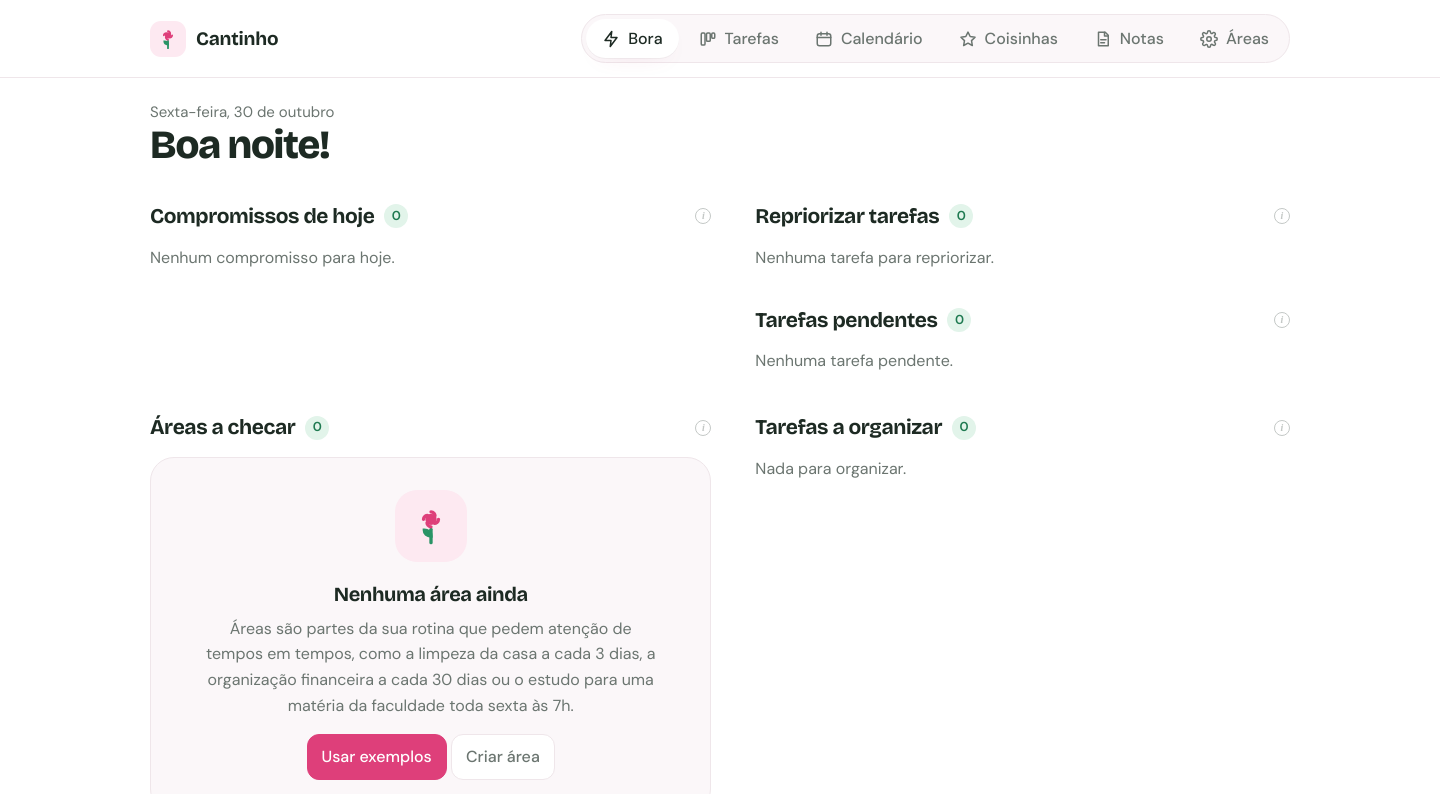
it: Calendário › alterna entre mês e semana e lembra a escolha
This screenshot has width=1440, height=794.
Step 1. Click the tab "Calendário" → x=869, y=39, box [799, 19, 939, 58]
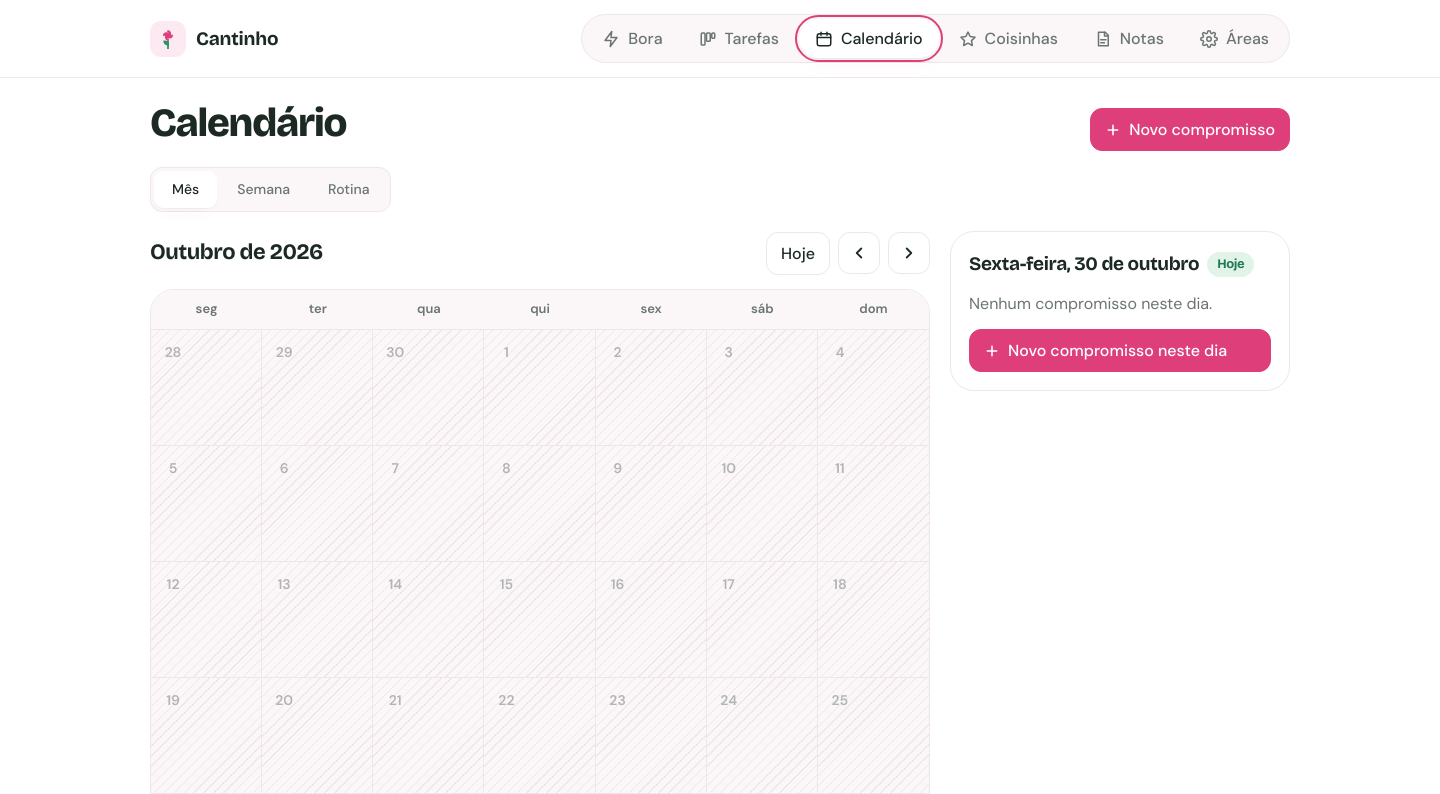
Step 2. Click the button "Semana" → x=264, y=190, box [219, 171, 308, 208]
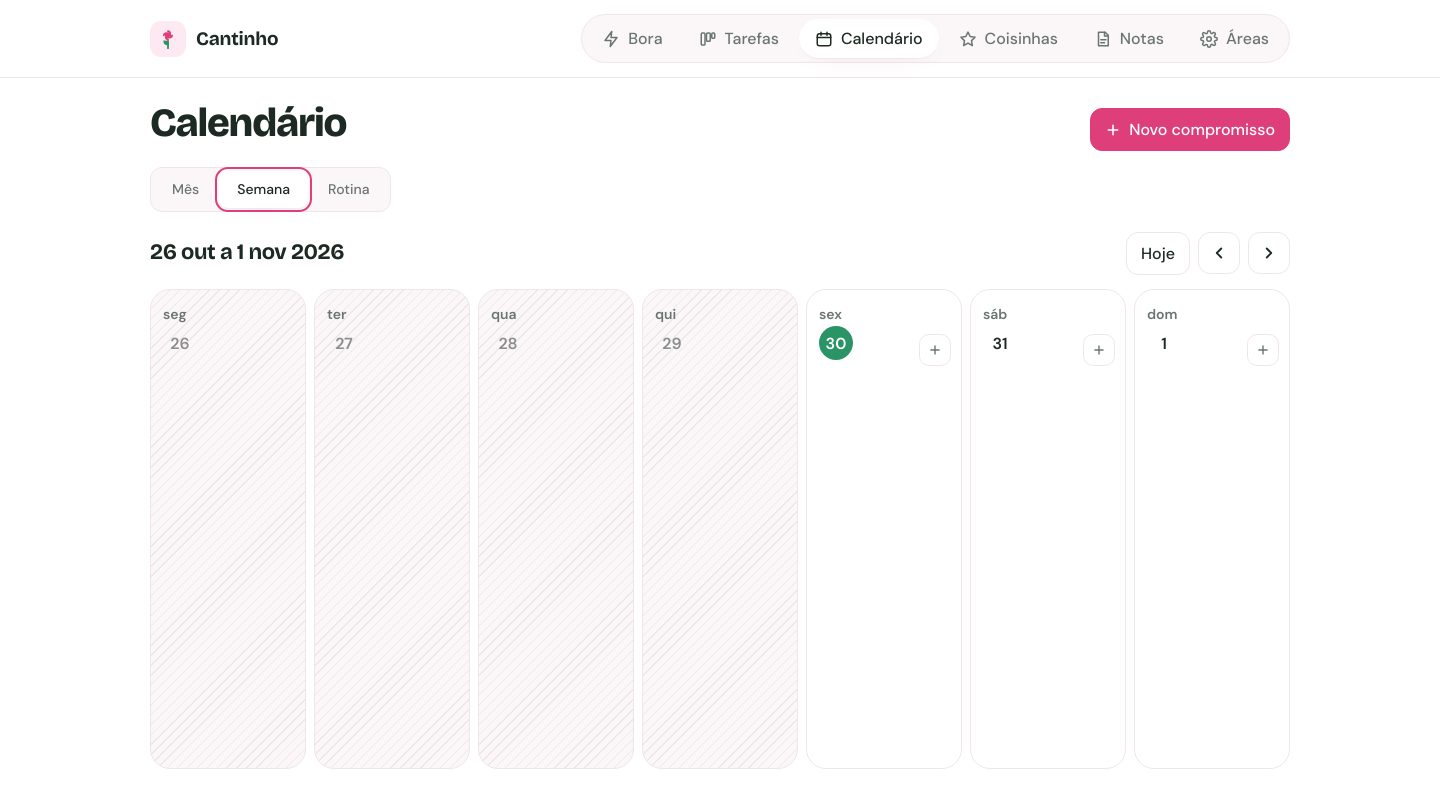
Result: the number of elements with class "wk-day" is 7
Result: the button named "Próxima semana" is shown at [1248, 232, 1290, 274]
Step 3. Click the button "Mês" → x=186, y=190, box [154, 171, 217, 208]
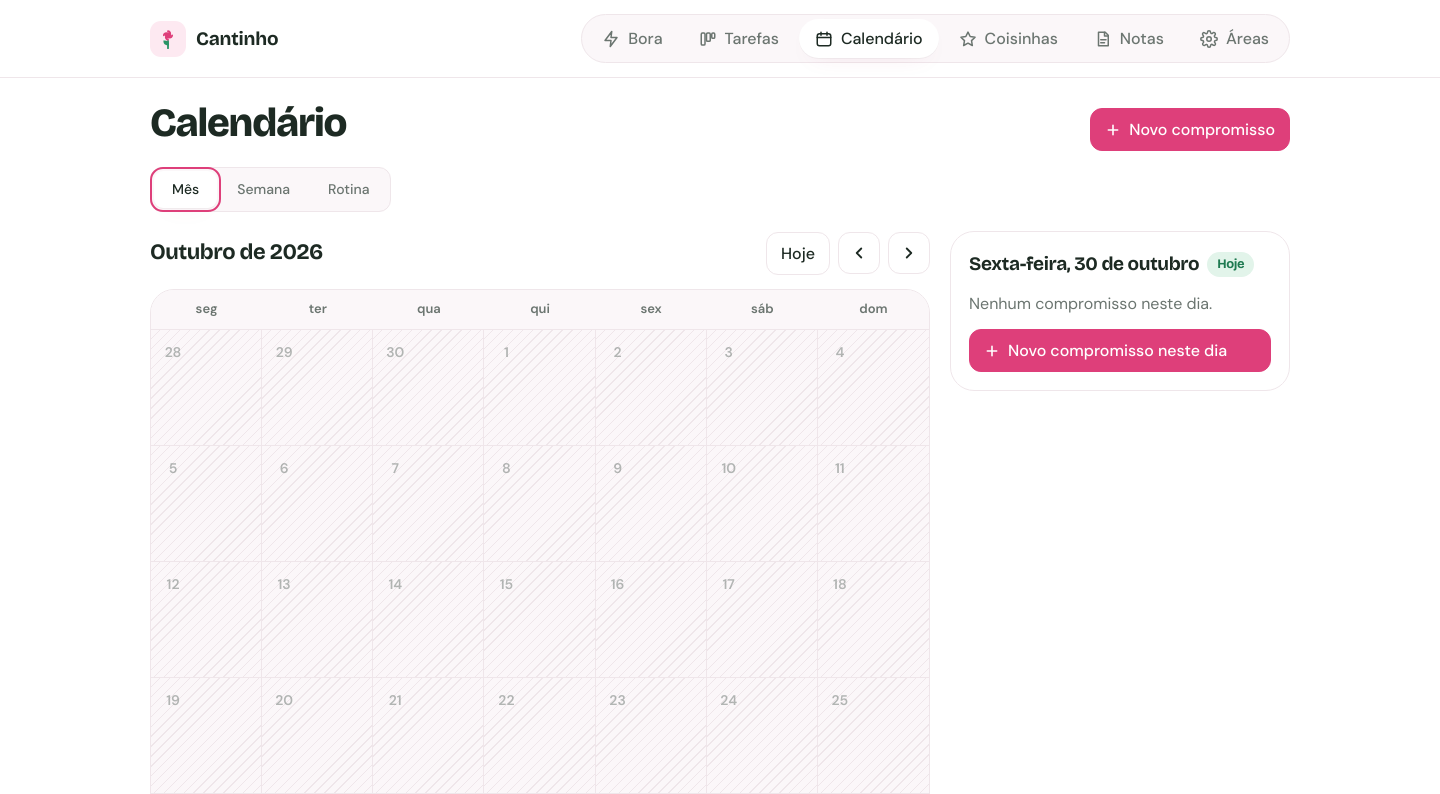
Result: the button named "Próximo mês" is shown at [888, 232, 930, 274]
